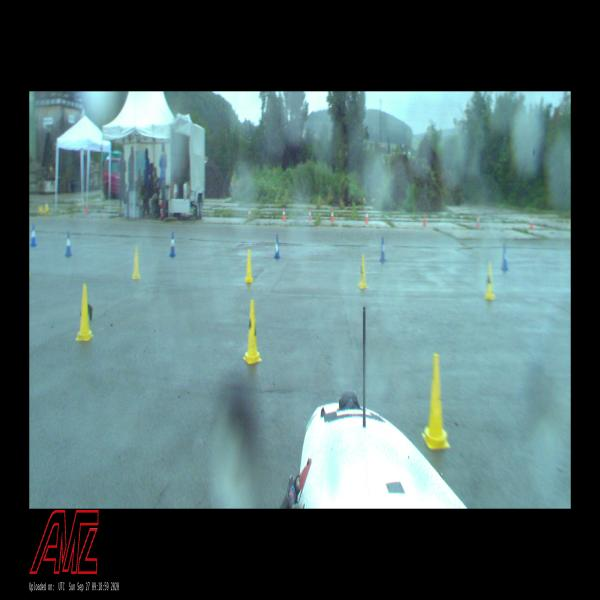blue_cone: (501, 241, 509, 271), (273, 235, 281, 260), (379, 237, 386, 263), (169, 233, 176, 257), (65, 231, 72, 255), (30, 224, 36, 247)
orange_cone: (282, 208, 286, 221), (331, 209, 334, 222), (365, 211, 368, 223), (423, 215, 426, 226), (309, 208, 311, 220)
yellow_cone: (421, 353, 450, 450), (242, 300, 262, 365), (76, 283, 93, 340), (485, 264, 495, 300), (358, 256, 367, 289), (244, 251, 253, 283), (132, 246, 140, 280)
